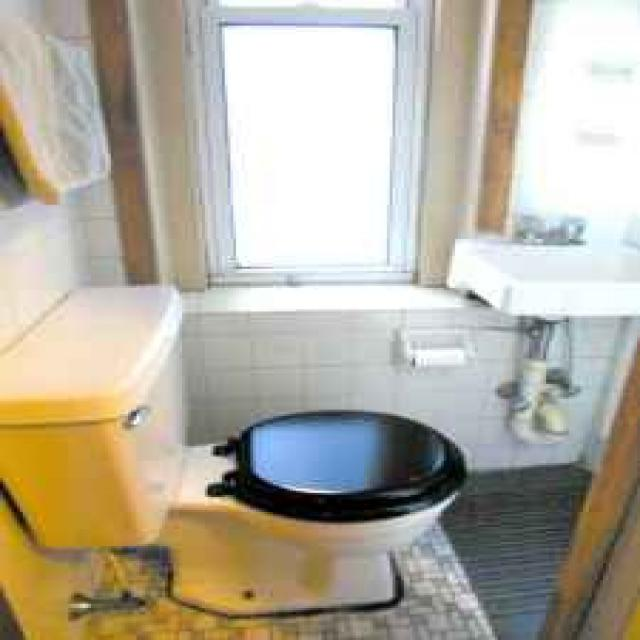2001: (193, 6, 415, 282)
cistern occluded: (3, 284, 185, 548)
door entrance: (535, 341, 634, 636)
faucet handle: (518, 211, 580, 239)
floor -X: (82, 465, 586, 638)
pipe: (506, 318, 560, 442)
toilet paper: (410, 346, 464, 363)
toilet seat: (205, 410, 464, 523)
towel basket: (3, 9, 108, 211)
wall clock: (85, 0, 634, 474), (3, 0, 156, 636), (577, 222, 634, 469)
washbasin crop: (447, 237, 634, 314)
wc chair crop: (148, 410, 466, 617)
